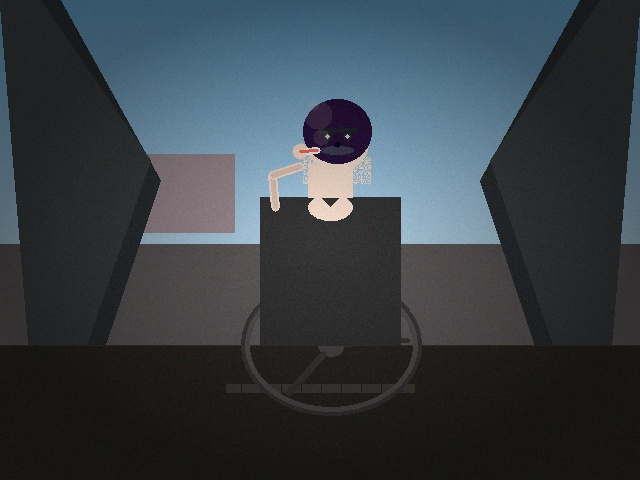smoking: (290, 136, 316, 166)
